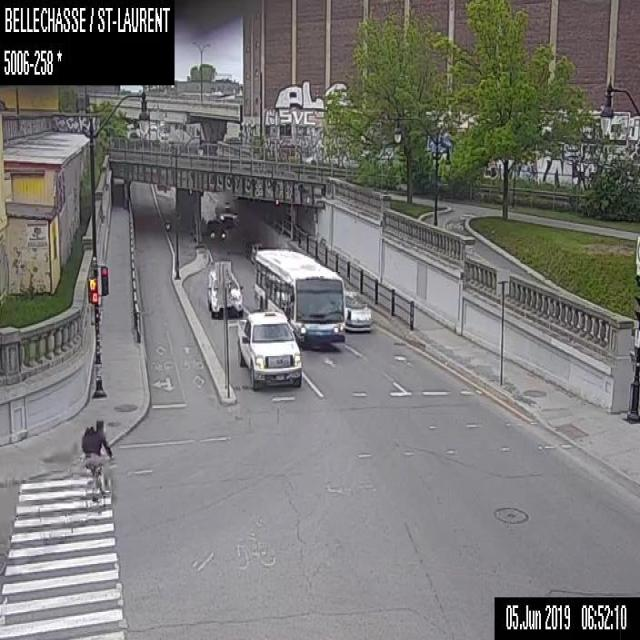bus: (253, 248, 344, 344)
cyclist: (80, 419, 113, 510)
vehicle: (237, 311, 301, 389), (208, 275, 243, 318), (344, 290, 372, 330), (214, 201, 236, 226), (205, 219, 224, 241), (246, 242, 261, 262)
